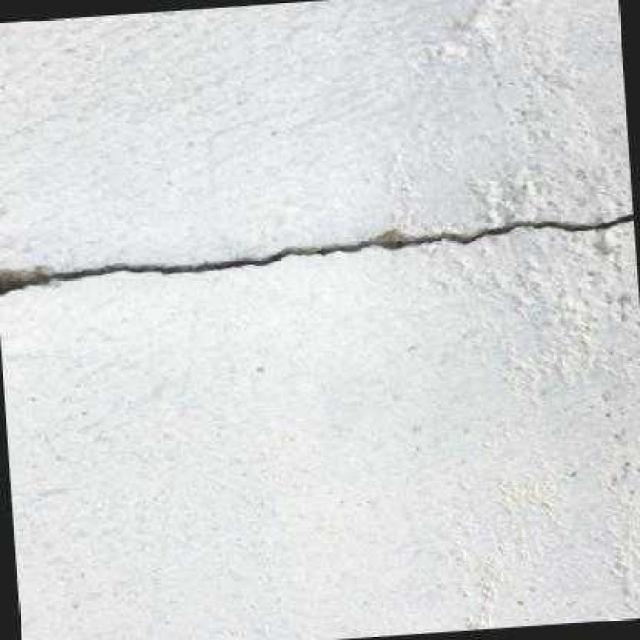D00: (0, 210, 634, 295)
